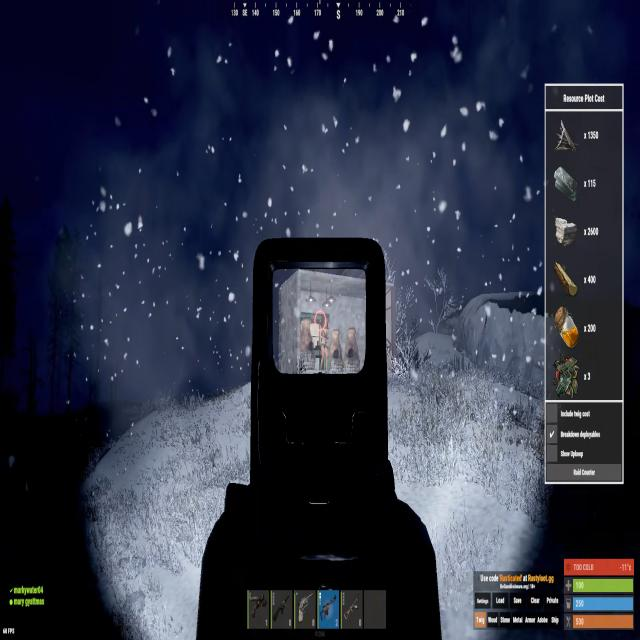Player: (320, 320, 329, 372)
